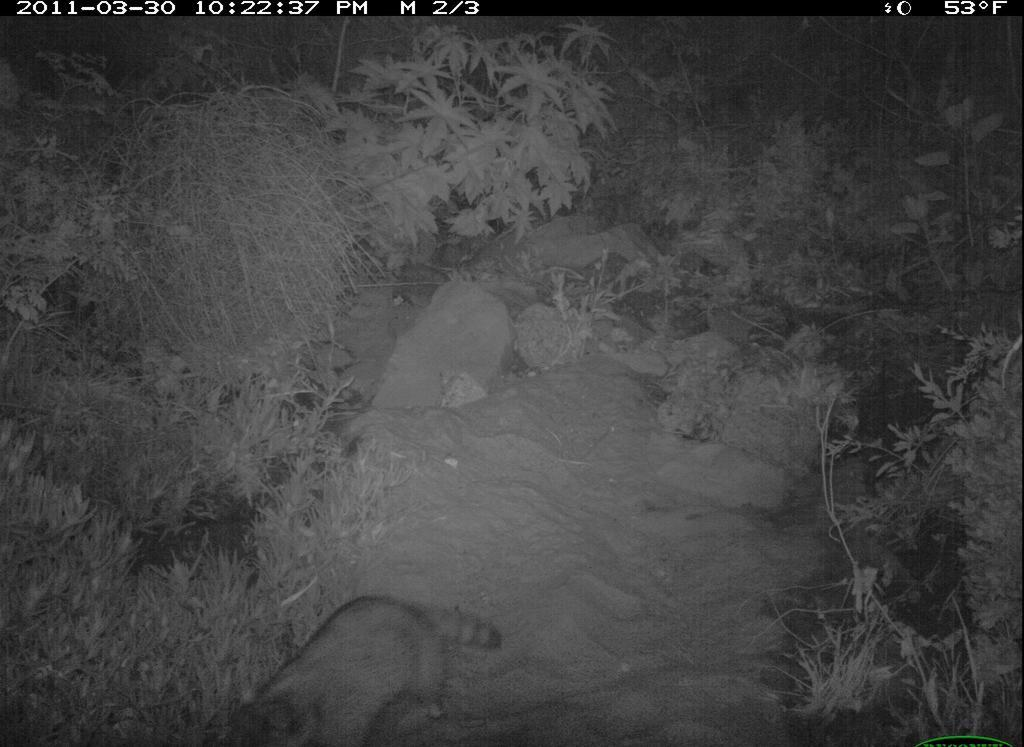raccoon: (204, 591, 511, 745)
